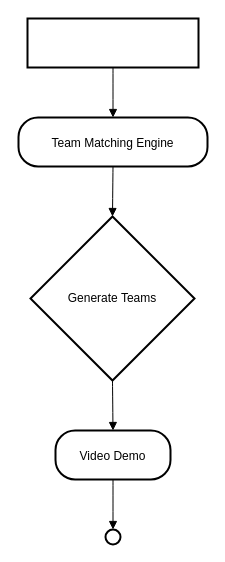
Image size: 225x562. Some labels were removed from this diagram. Here are the shapes that lost their labels. From the top down, the centre of each, then its label:
At point 112,42: "Lead Developer".
At point 112,536: "https://lnkd.in/g6Us8cW".
